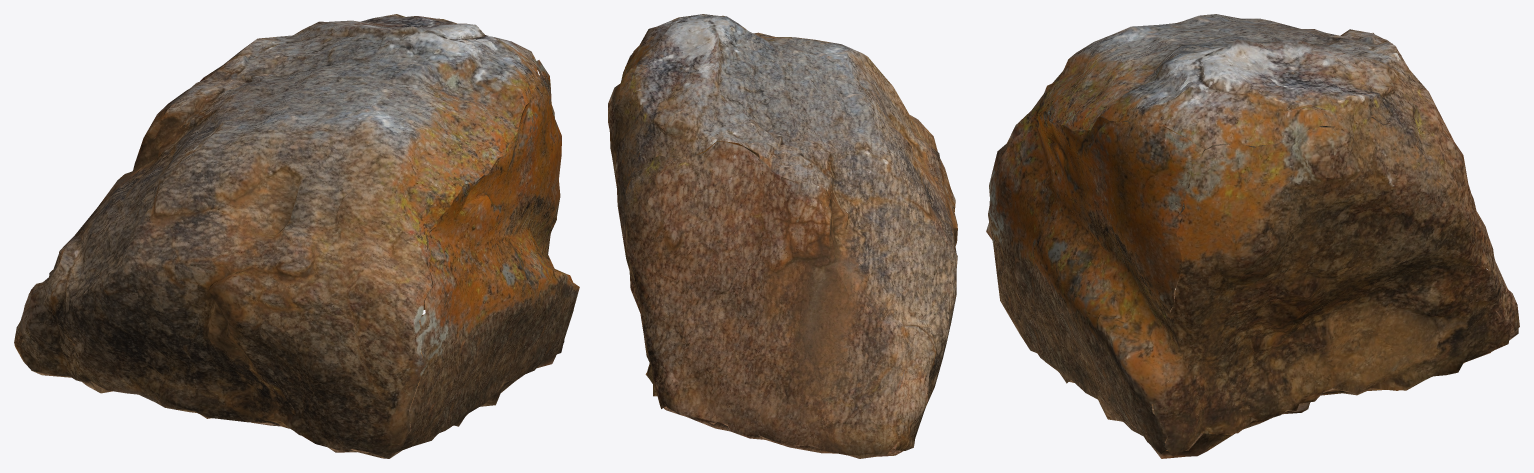
File: boulder.glb
The picture shows the model from 3 angles, left to right: view 1: azimuth 30°, elevation 25°; view 2: azimuth 150°, elevation 25°; view 3: azimuth 270°, elevation 25°; orthographic projection. The views are drawn at different scales.
Parts seen in each view (by area): view 1: boulder_04; view 2: boulder_04; view 3: boulder_04.
Part boxes in pixels (<box>): boulder_04: <box>14,14,579,458</box>; boulder_04: <box>608,14,957,458</box>; boulder_04: <box>986,14,1519,458</box>.
Bounding box in the file's own units: 2.6 × 1.95 × 2.57.
Materials: 1 (1 with a texture image).
